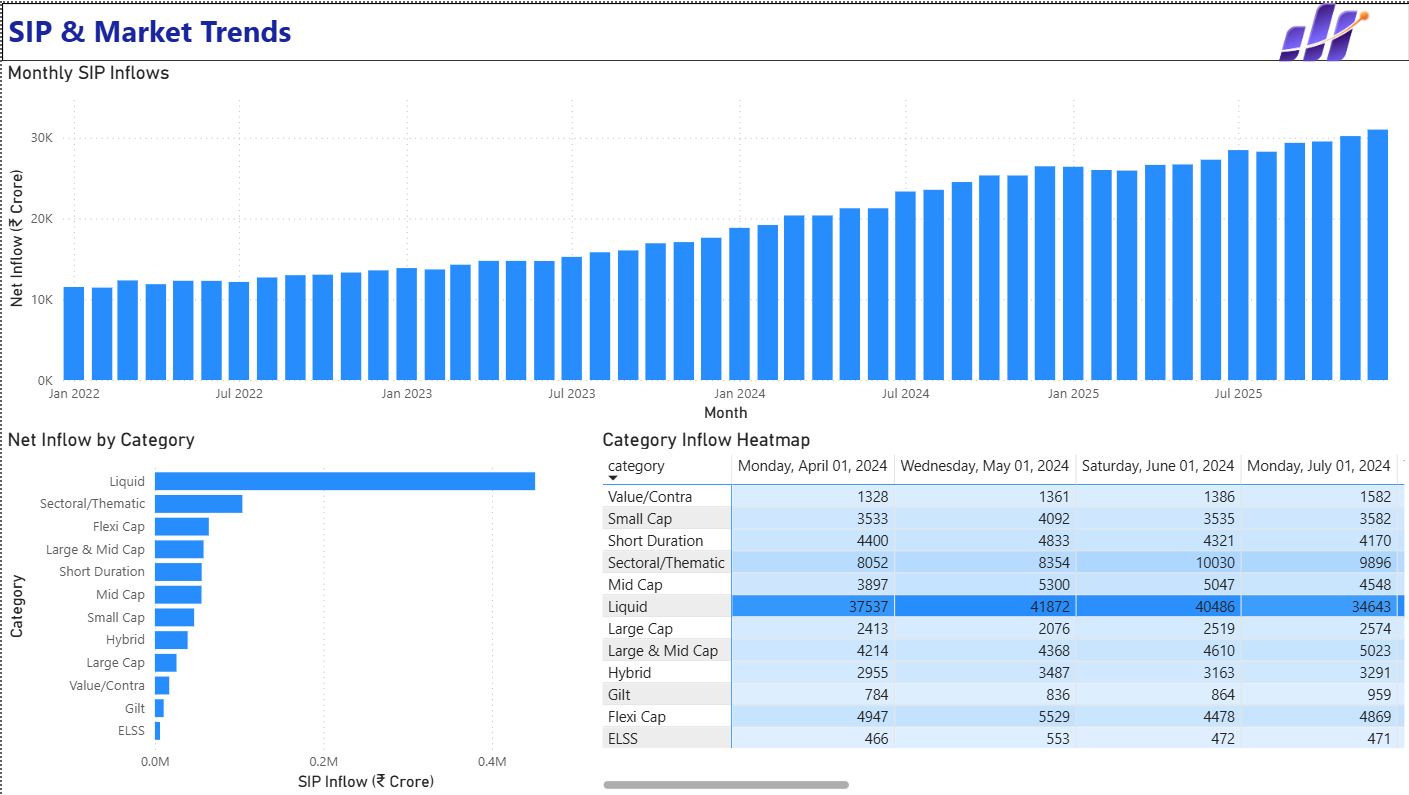

Layout of this report page (visuals, bound fields, positions):
{"tool":"powerbi","page":{"name":"SIP & Market Trends","canvas":[1280,720],"ordinal":3},"visuals":[{"type":"textbox","box":[0,0,1280,53],"z":0},{"type":"lineClusteredColumnComboChart","title":"Monthly SIP Inflows","fields":{"Category":["Monthly Sip Inflows.month"],"Y":["Sum(Monthly Sip Inflows.sip_inflow_crore)"]},"box":[0,53,1280,333],"z":1000},{"type":"pivotTable","title":"Category Inflow Heatmap","fields":{"Columns":["Category Inflows.month"],"Rows":["Category Inflows.category"],"Values":["Sum(Category Inflows.net_inflow_crore)"]},"box":[541,386,739,334],"z":2000},{"type":"clusteredBarChart","title":"Net Inflow by Category","fields":{"Y":["Sum(Category Inflows.net_inflow_crore)"],"Category":["Category Inflows.category"]},"box":[0,386,541,334],"z":3000},{"type":"image","box":[1106,0,174,53],"z":3001}]}

Visuals, with their boxes in screenshot pixels (x1, y1, x2, y2), scaled from the page's 1280x720 canvas onto the 1409x795 screenshot:
textbox: [x1=0, y1=0, x2=1408, y2=59]
"Monthly SIP Inflows" lineClusteredColumnComboChart: [x1=0, y1=59, x2=1408, y2=426]
"Category Inflow Heatmap" pivotTable: [x1=596, y1=426, x2=1408, y2=794]
"Net Inflow by Category" clusteredBarChart: [x1=0, y1=426, x2=596, y2=794]
image: [x1=1217, y1=0, x2=1408, y2=59]
